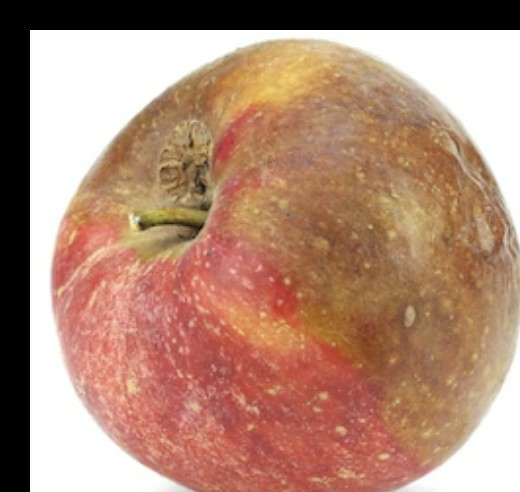rotten_apple: (50, 41, 520, 492)
